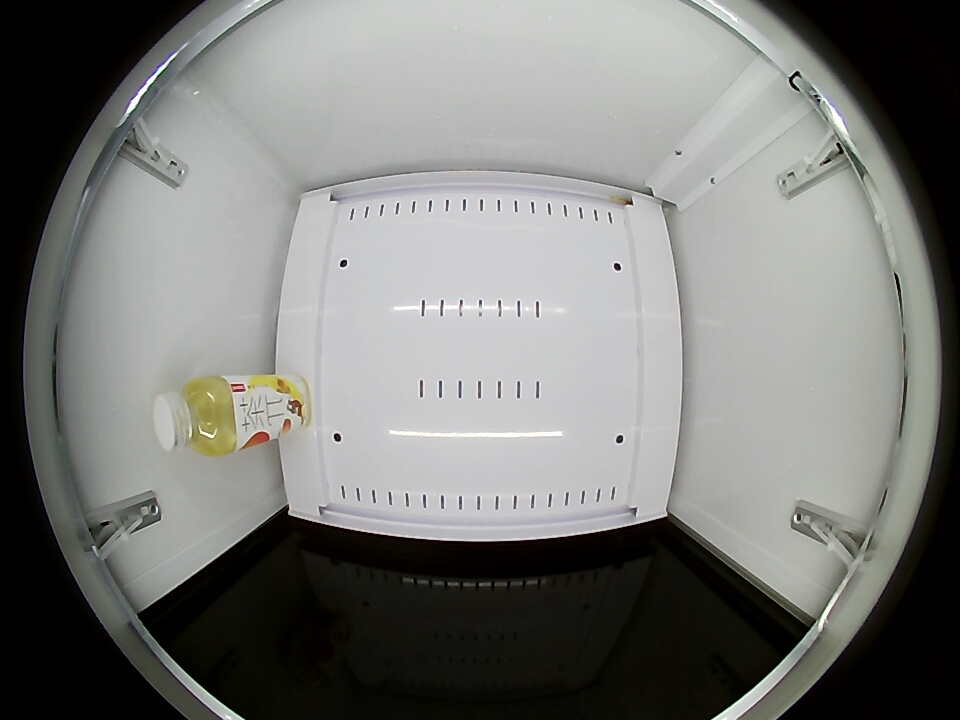chapai2: (154, 375, 239, 457)
